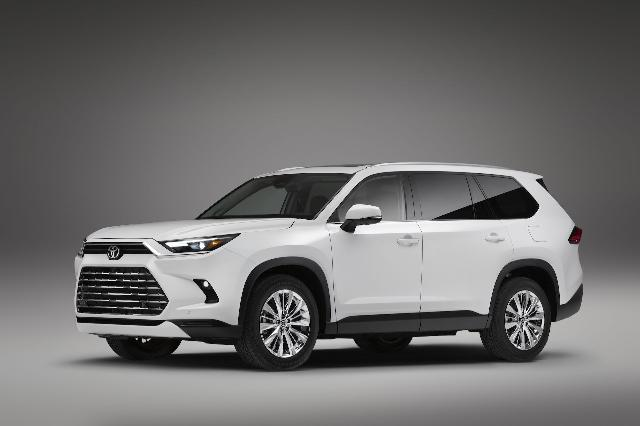toyota: (73, 163, 584, 372)
